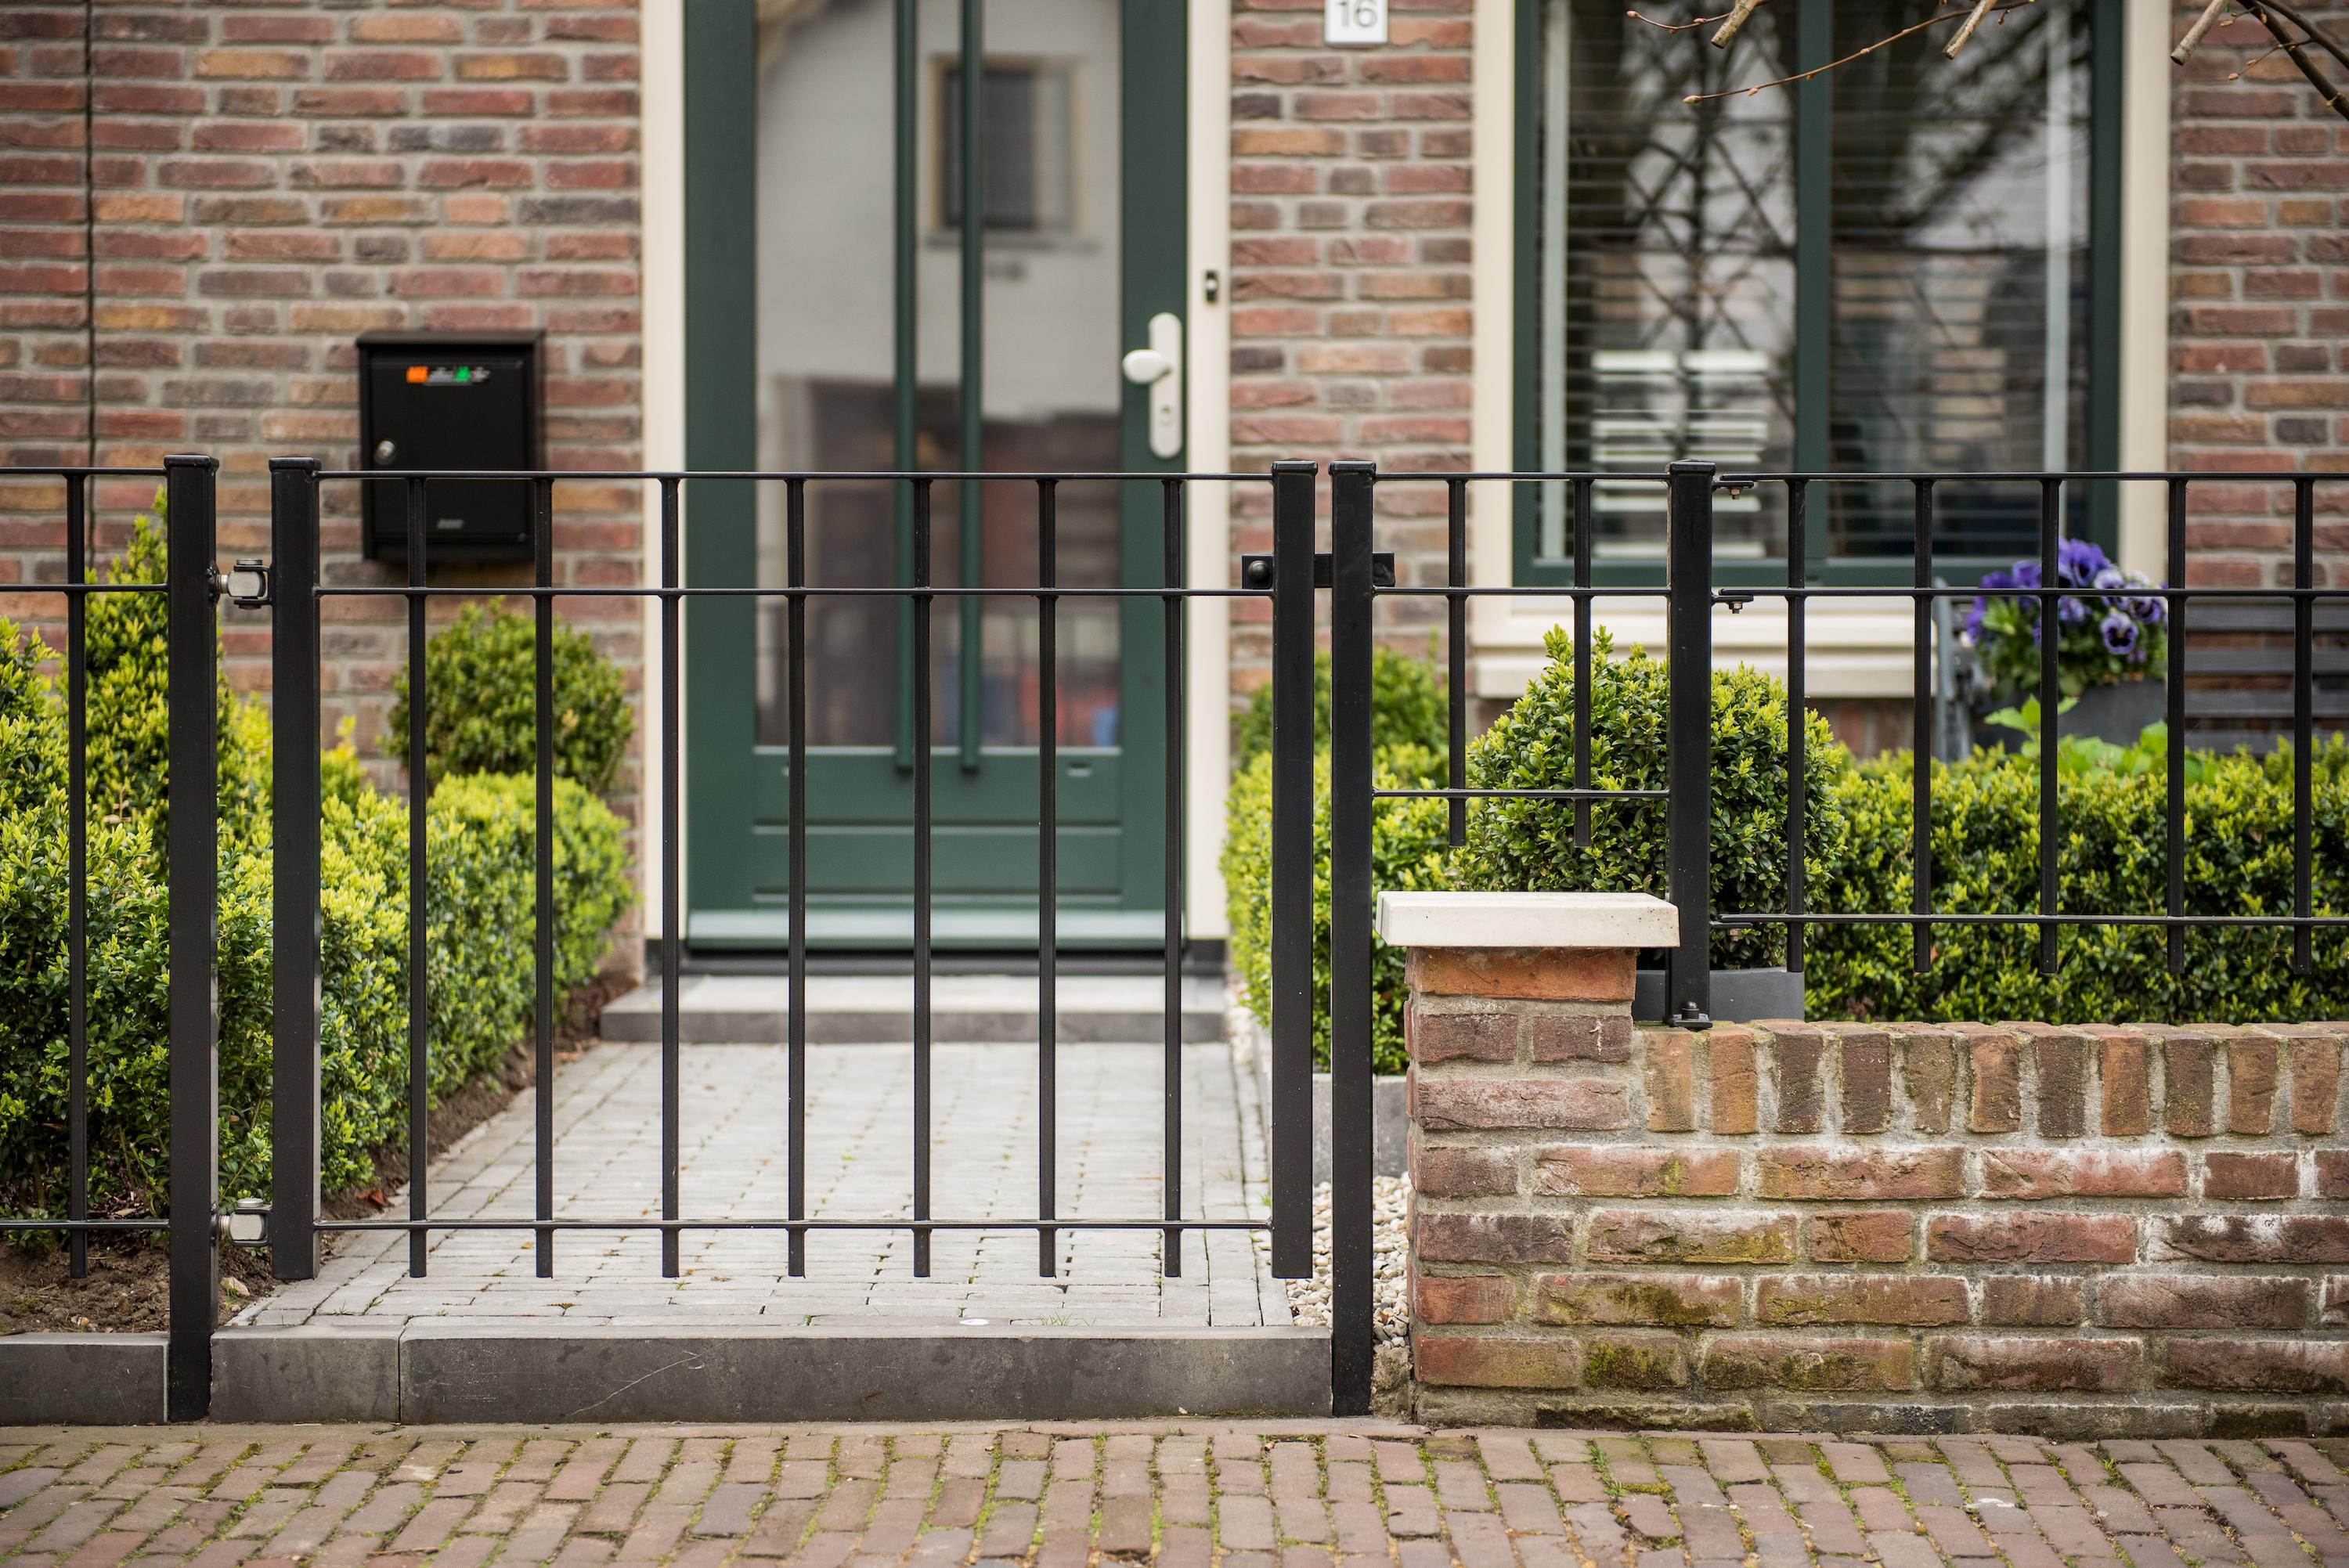obstacle: (690, 369, 2349, 1286)
